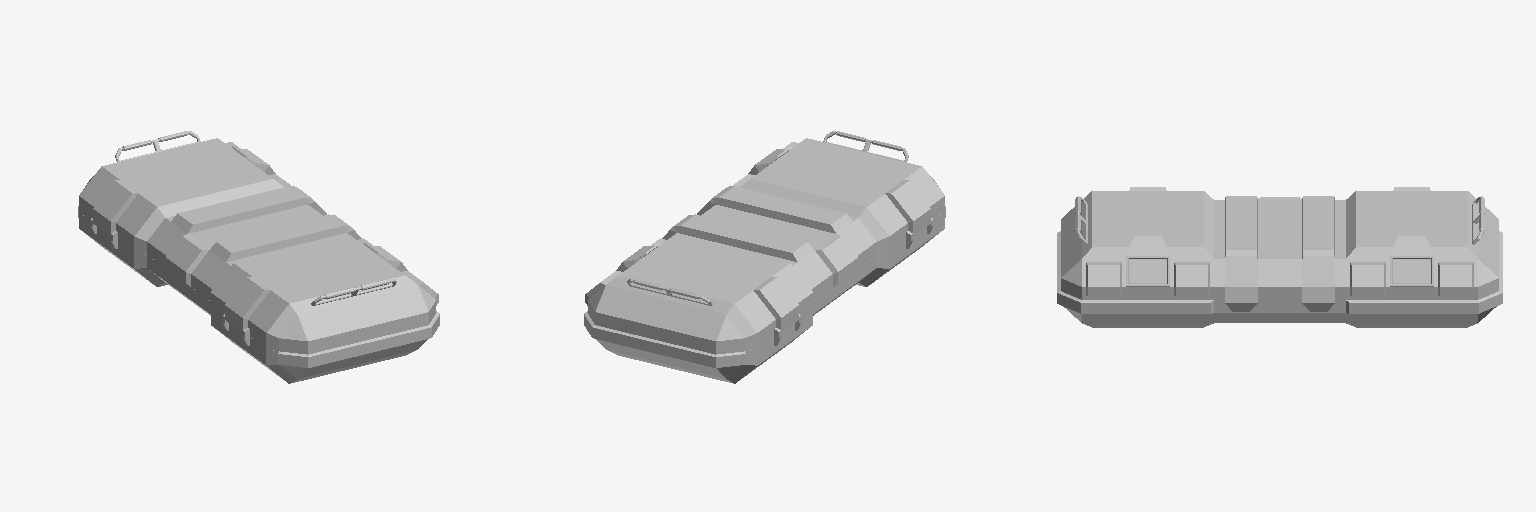
The model's file is Scifi_Crate01.obj.
3 renders of one model, left to right at view 1: azimuth 30°, elevation 25°; view 2: azimuth 150°, elevation 25°; view 3: azimuth 270°, elevation 25°, orthographic.
Visible parts, largest first — view 1: SciFi_Crate01_A_Mesh.039; view 2: SciFi_Crate01_A_Mesh.039; view 3: SciFi_Crate01_A_Mesh.039.
Boxes of the visible parts, x1,y1,x2,y2 form: SciFi_Crate01_A_Mesh.039: [78, 131, 439, 383]; SciFi_Crate01_A_Mesh.039: [584, 131, 945, 383]; SciFi_Crate01_A_Mesh.039: [1057, 187, 1502, 327].
Bounding box in the file's own units: 2.65 × 1.27 × 5.78.